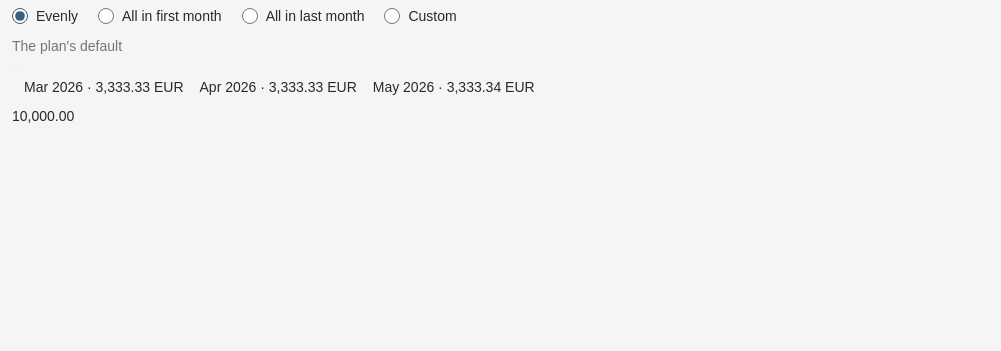
Scenario: SpreadEditor (US3, FR-017 – FR-021) › starts Custom from the spread, adds a month before and totals it (scenario 2, FR-018)
Click the radio button labelled "Custom": click(392, 16) [384, 8, 400, 24]
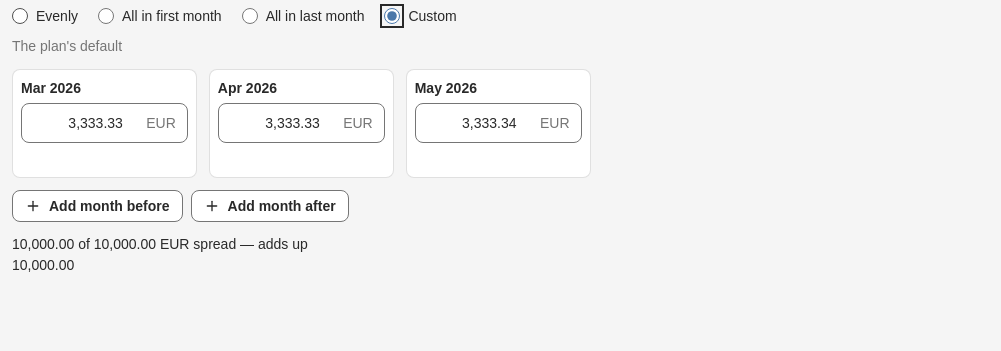
Expected: the field labelled "Amount for Mar 2026" holds "3,333.33", [21, 103, 188, 143]
Expected: the field labelled "Amount for May 2026" holds "3,333.34", [415, 103, 582, 143]
Expected: the text "10,000.00 of 10,000.00 EUR spread — adds up" is shown, [12, 234, 308, 255]
Click the button "Add month before": click(97, 206) [12, 190, 182, 222]
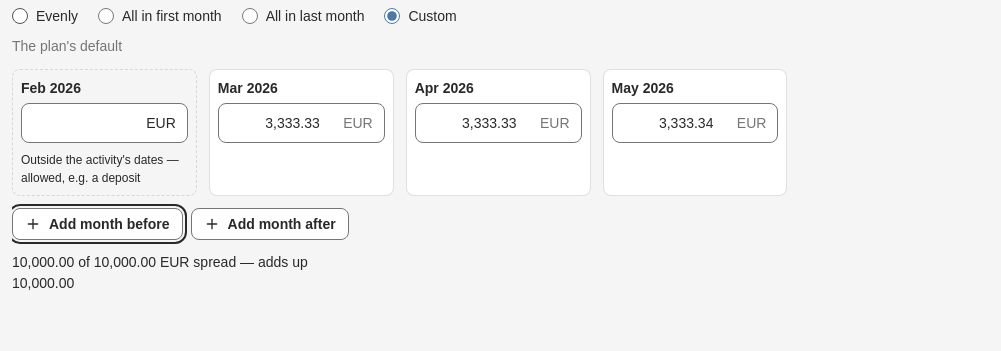
In the field labelled "Amount for Feb 2026": (104, 123) [21, 103, 188, 143], type "2000"
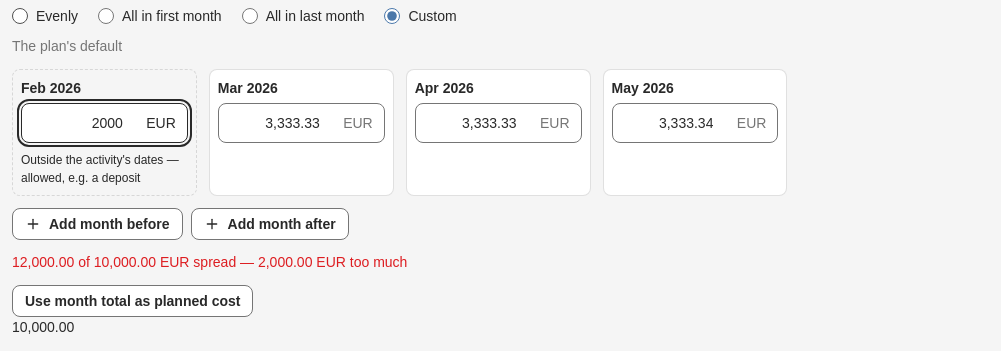
Expected: the text "Outside the activity's dates — allowed, e.g. a deposit" is shown, [21, 151, 188, 187]
Expected: the text "12,000.00 of 10,000.00 EUR spread — 2,000.00 EUR too much" is shown, [12, 252, 407, 273]
Click the button "Use month total as planned cost": click(133, 301) [12, 285, 254, 317]
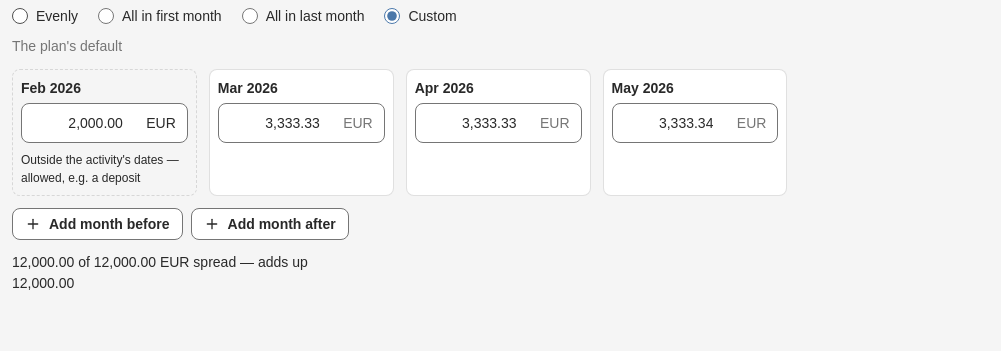
Expected: the text named "Planned cost now" reads "12,000.00", [12, 275, 74, 291]
Expected: the text "12,000.00 of 12,000.00 EUR spread — adds up" is shown, [12, 252, 308, 273]
Click the button "Add month after": click(270, 224) [190, 208, 349, 240]
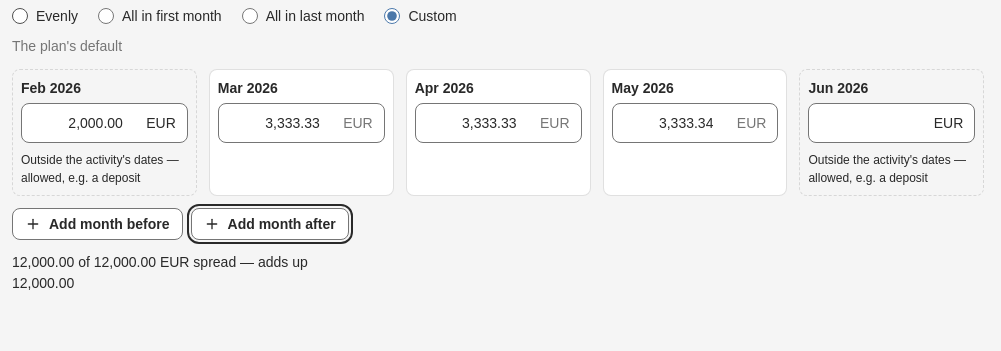
Expected: the field labelled "Amount for Jun 2026" is empty, [808, 103, 975, 143]
Clear the field labelled "Amount for Feb 2026": (104, 123) [21, 103, 188, 143]
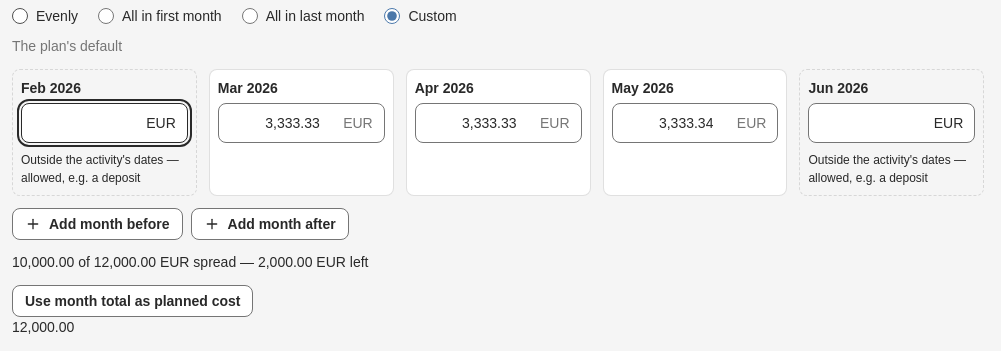
Expected: the text "10,000.00 of 12,000.00 EUR spread — 2,000.00 EUR left" is shown, [12, 252, 368, 273]
